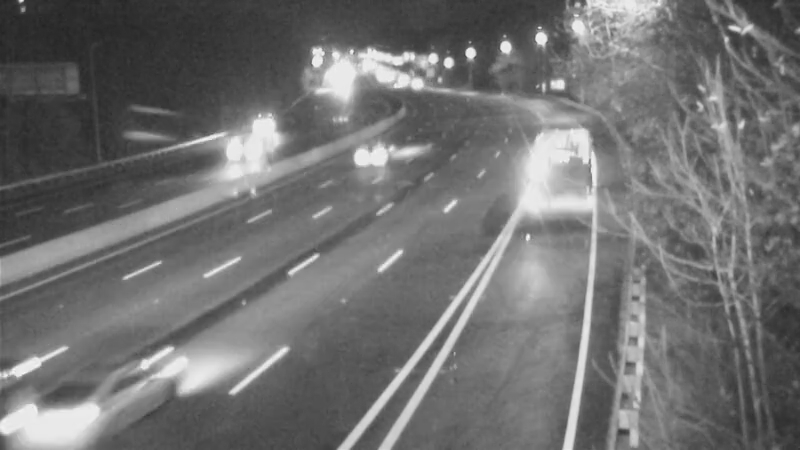vehicle: (1, 354, 111, 450), (516, 151, 596, 231), (322, 118, 402, 198), (204, 114, 284, 194), (232, 109, 282, 159)
